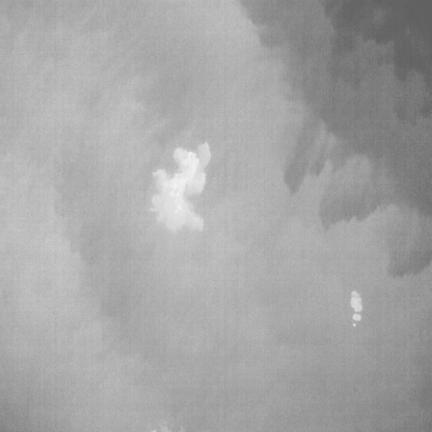flukeprints: (151, 148, 205, 230), (351, 291, 362, 314), (353, 314, 360, 326)
